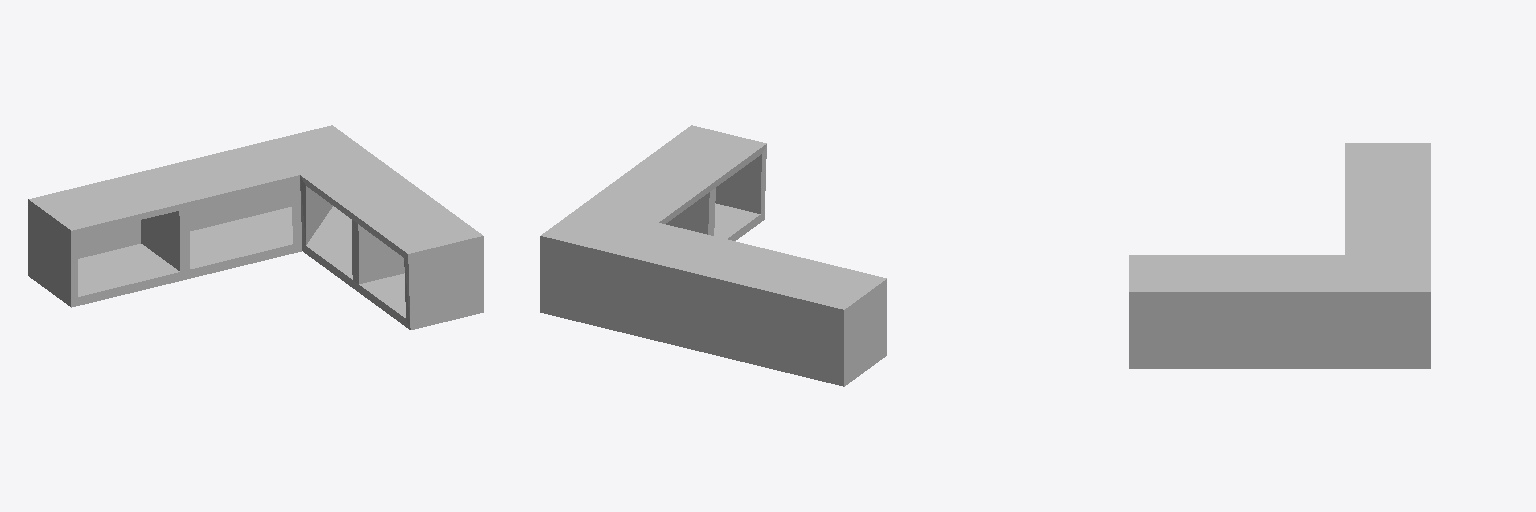
File: overhead_cupboard_1.obj
The picture shows the model from 3 angles: view 1: azimuth 30°, elevation 25°; view 2: azimuth 150°, elevation 25°; view 3: azimuth 270°, elevation 25°; orthographic projection.
Parts seen in each view (by area): view 1: cupboard overhead_cupboard_1; view 2: cupboard overhead_cupboard_1; view 3: cupboard overhead_cupboard_1.
Part boxes in pixels (x1,y1,x2,y2): cupboard overhead_cupboard_1: (28,125,483,329); cupboard overhead_cupboard_1: (540,125,886,386); cupboard overhead_cupboard_1: (1129,143,1430,368).
Size of the model in its own units: 26.2 by 6.33 by 22.56.